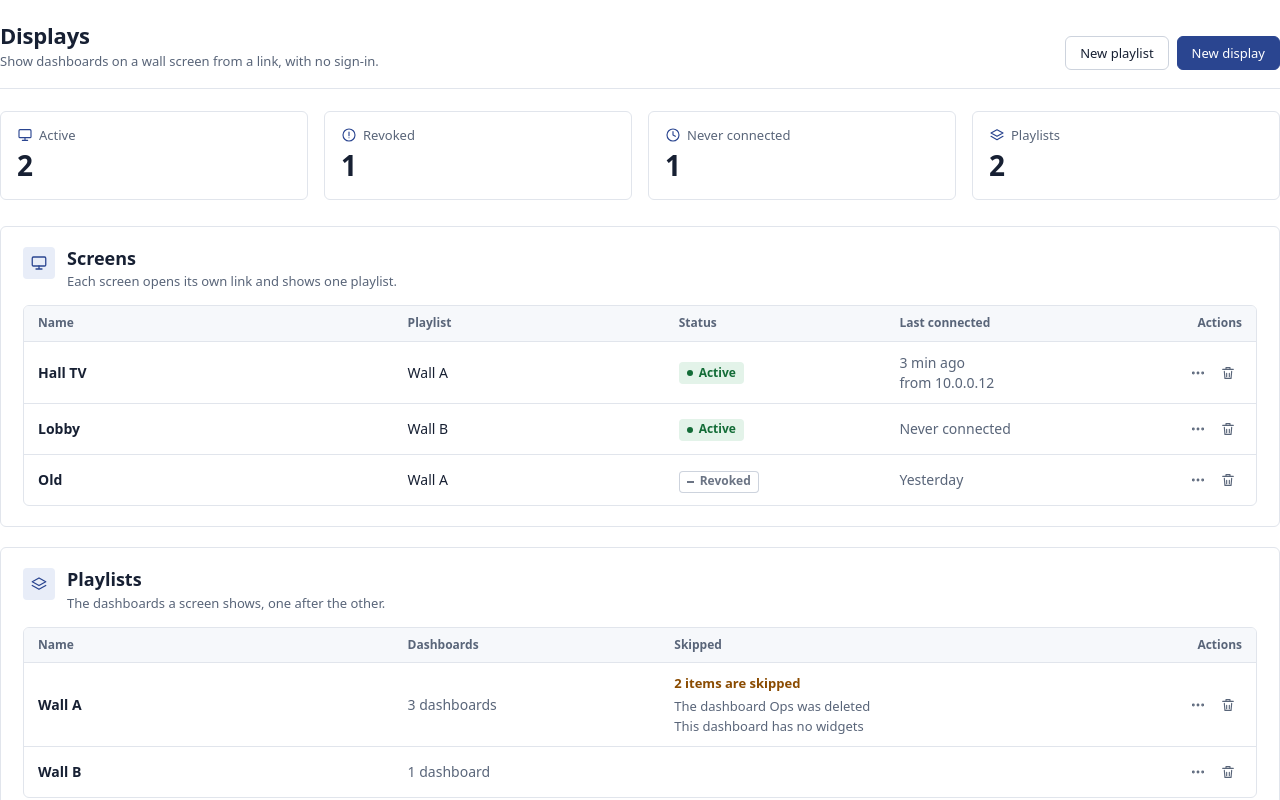
Test case: DisplaysPage: Revoke › keeps the dialog open with the server's sentence when it is refused, and still reads the list again
expect the cell "Hall TV" is shown: met, box [24,342,394,404]
Click the button named "Actions for Hall TV": (1198, 373) [1184,359,1212,387]
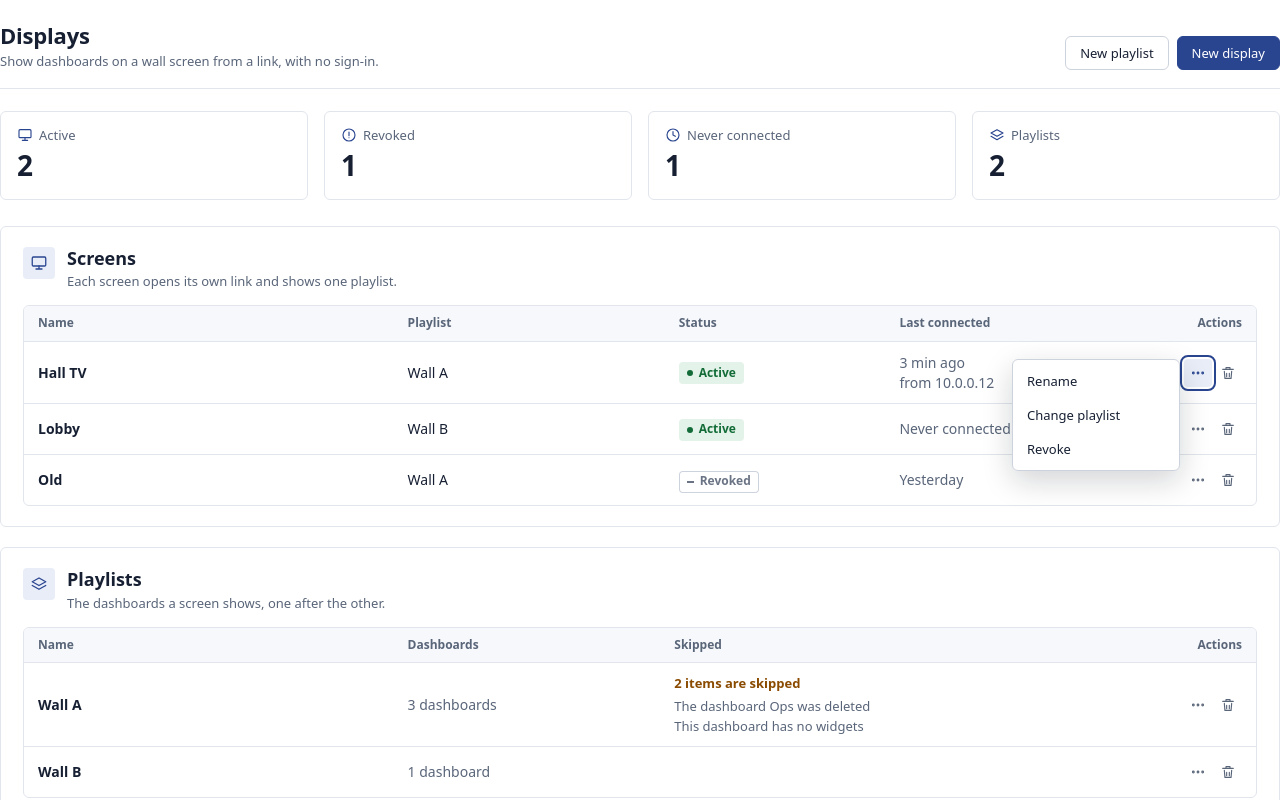
Click the menu item "Revoke": (1096, 449) [1017,432,1175,466]
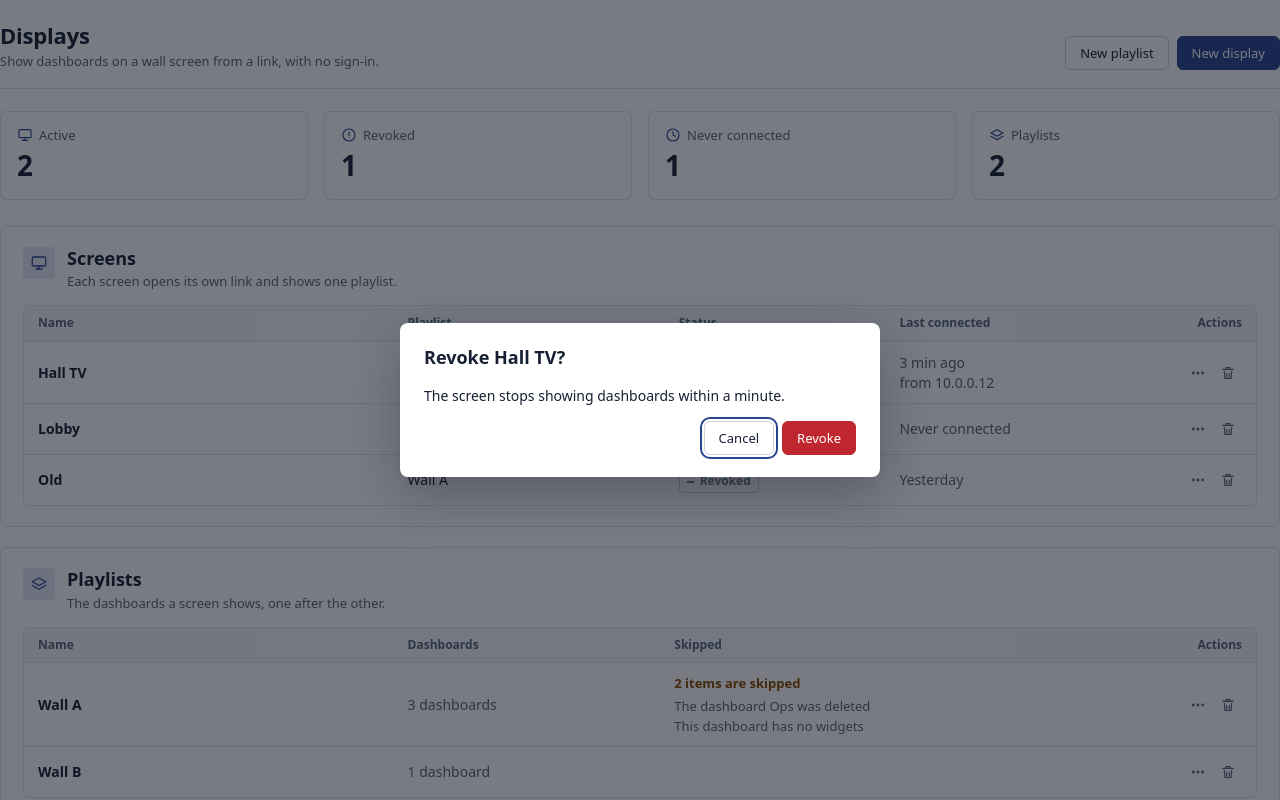
Click the button "Revoke": (819, 438) [782,421,856,455]
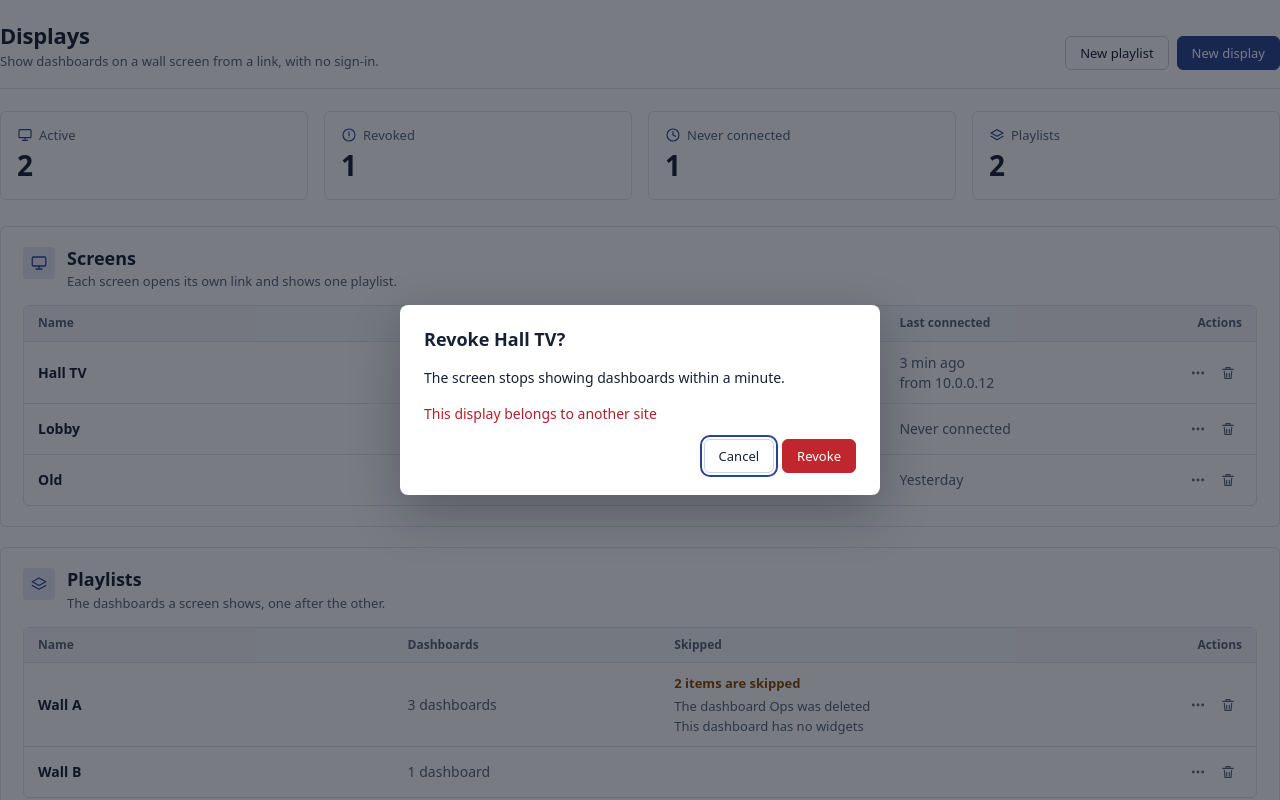
expect the message reads "This display belongs to another site": met, box [424,404,657,423]
